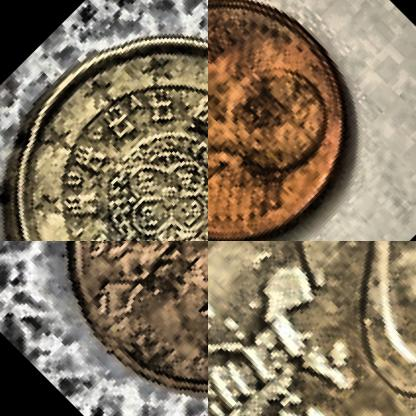coin: (0, 0, 207, 240), (208, 0, 401, 240), (208, 241, 415, 415), (6, 241, 207, 415)
